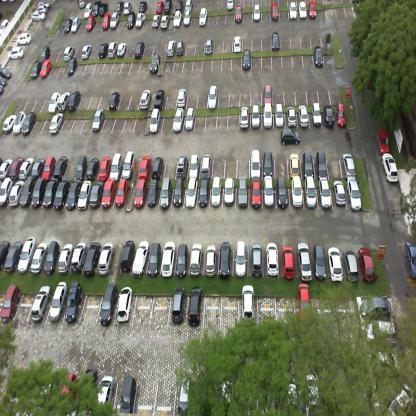car: (384, 381, 413, 415), (302, 370, 323, 414), (94, 374, 115, 414), (64, 280, 83, 324), (29, 285, 50, 322), (48, 280, 66, 323), (360, 294, 392, 318), (176, 371, 194, 412), (36, 377, 58, 410), (1, 283, 20, 321), (365, 322, 397, 344), (119, 373, 136, 414), (370, 353, 400, 376), (296, 239, 312, 281), (29, 241, 48, 276), (99, 285, 115, 326), (18, 237, 35, 275), (82, 366, 98, 406), (326, 245, 343, 282), (132, 239, 149, 276), (84, 240, 101, 277), (380, 151, 399, 184), (116, 285, 132, 324), (358, 244, 374, 282), (241, 283, 256, 323), (187, 286, 202, 326), (42, 240, 59, 275), (4, 241, 22, 274), (342, 248, 359, 282), (29, 176, 46, 210), (221, 380, 237, 416), (312, 242, 327, 280), (160, 240, 175, 278), (61, 372, 78, 405), (171, 286, 185, 325), (98, 242, 114, 276), (71, 240, 87, 274), (58, 242, 74, 276), (120, 238, 135, 274), (282, 241, 295, 281), (265, 240, 279, 277), (347, 175, 361, 212), (65, 180, 81, 212), (18, 178, 34, 210), (317, 176, 332, 210), (298, 281, 310, 323), (147, 241, 161, 277), (218, 240, 231, 278), (404, 239, 416, 279), (52, 180, 68, 210), (175, 242, 188, 278), (100, 177, 115, 208), (285, 380, 299, 413), (132, 177, 146, 210), (332, 178, 347, 208), (42, 180, 57, 210), (251, 241, 263, 278), (189, 242, 202, 276), (290, 178, 304, 209), (77, 179, 91, 210), (304, 176, 317, 209), (314, 148, 328, 178), (276, 175, 288, 210), (185, 178, 198, 210), (96, 154, 112, 180), (8, 180, 24, 206), (204, 243, 216, 277), (198, 176, 210, 210), (159, 176, 171, 210), (375, 126, 389, 154), (52, 155, 69, 178), (120, 150, 135, 176), (89, 108, 104, 134), (262, 174, 274, 206), (249, 148, 261, 180), (210, 176, 222, 208), (84, 156, 100, 180), (172, 177, 184, 208), (146, 177, 158, 208), (116, 178, 128, 209), (342, 152, 356, 178), (171, 106, 184, 134), (238, 176, 249, 209), (48, 112, 64, 134), (236, 238, 245, 277), (41, 155, 56, 178), (18, 158, 35, 178), (0, 178, 13, 204), (138, 154, 152, 178), (21, 112, 36, 134), (335, 101, 347, 128), (289, 149, 301, 176), (302, 149, 314, 176), (310, 101, 322, 128), (184, 106, 196, 133), (12, 111, 26, 134), (280, 128, 300, 144), (322, 102, 334, 128), (200, 152, 212, 178), (110, 152, 122, 178), (88, 185, 102, 207), (9, 157, 23, 179), (67, 90, 81, 112), (251, 179, 261, 209), (224, 177, 234, 207), (74, 154, 86, 179), (47, 89, 60, 112), (2, 113, 16, 134), (263, 101, 273, 130), (239, 105, 250, 131), (149, 108, 160, 134), (175, 156, 188, 178), (207, 83, 217, 111), (312, 44, 324, 67), (286, 102, 297, 127), (263, 149, 273, 176), (106, 91, 120, 110), (240, 48, 252, 70), (133, 40, 145, 62), (298, 102, 308, 128), (274, 101, 284, 127), (251, 102, 261, 128), (189, 152, 199, 178), (8, 44, 24, 60), (0, 159, 12, 180), (148, 53, 160, 74), (38, 59, 52, 77), (262, 80, 272, 105), (56, 91, 69, 110), (140, 89, 151, 111), (152, 156, 162, 180), (32, 158, 45, 176), (107, 40, 118, 61), (79, 42, 91, 61), (134, 10, 146, 29), (176, 87, 186, 109), (270, 30, 280, 52), (232, 35, 242, 56), (16, 32, 32, 45), (30, 59, 42, 76), (28, 9, 45, 21), (166, 38, 176, 58), (109, 11, 119, 31), (182, 7, 192, 27), (234, 4, 244, 24), (203, 37, 214, 55), (66, 58, 77, 76), (171, 9, 182, 27), (126, 10, 136, 29), (70, 16, 81, 33), (154, 89, 164, 107), (98, 43, 108, 61), (40, 44, 50, 62), (62, 16, 72, 34), (85, 14, 95, 32), (63, 44, 74, 60), (101, 12, 110, 31), (252, 3, 261, 22), (271, 2, 280, 21), (116, 41, 126, 58), (0, 65, 12, 79), (83, 1, 92, 19), (159, 12, 169, 28), (199, 8, 207, 28), (289, 1, 297, 21), (298, 1, 306, 21), (92, 0, 102, 16), (176, 40, 185, 57), (309, 1, 317, 20), (98, 2, 108, 16), (122, 1, 132, 15), (150, 13, 160, 26), (138, 1, 148, 13), (155, 1, 165, 13), (162, 0, 172, 12), (0, 18, 8, 32), (35, 6, 48, 14), (114, 2, 124, 12), (0, 75, 8, 87), (38, 1, 50, 8), (227, 0, 234, 12), (175, 1, 183, 11), (76, 0, 86, 8), (184, 0, 193, 8)
